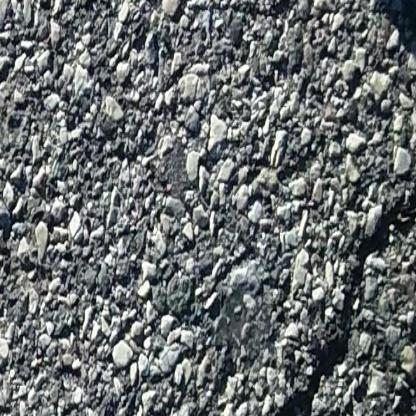Cracks: (270, 180, 416, 416), (386, 384, 416, 416)
